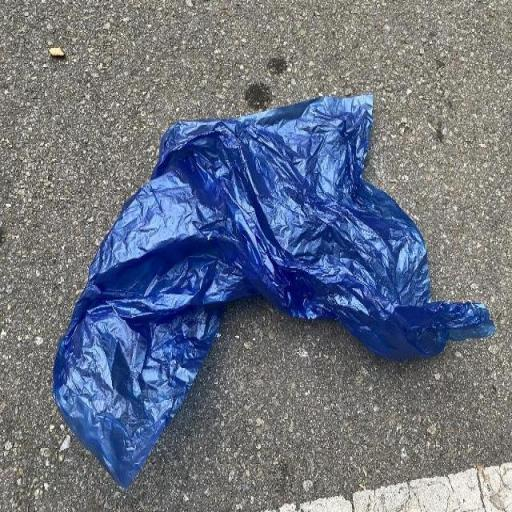plastic-bag: (50, 89, 499, 490)
